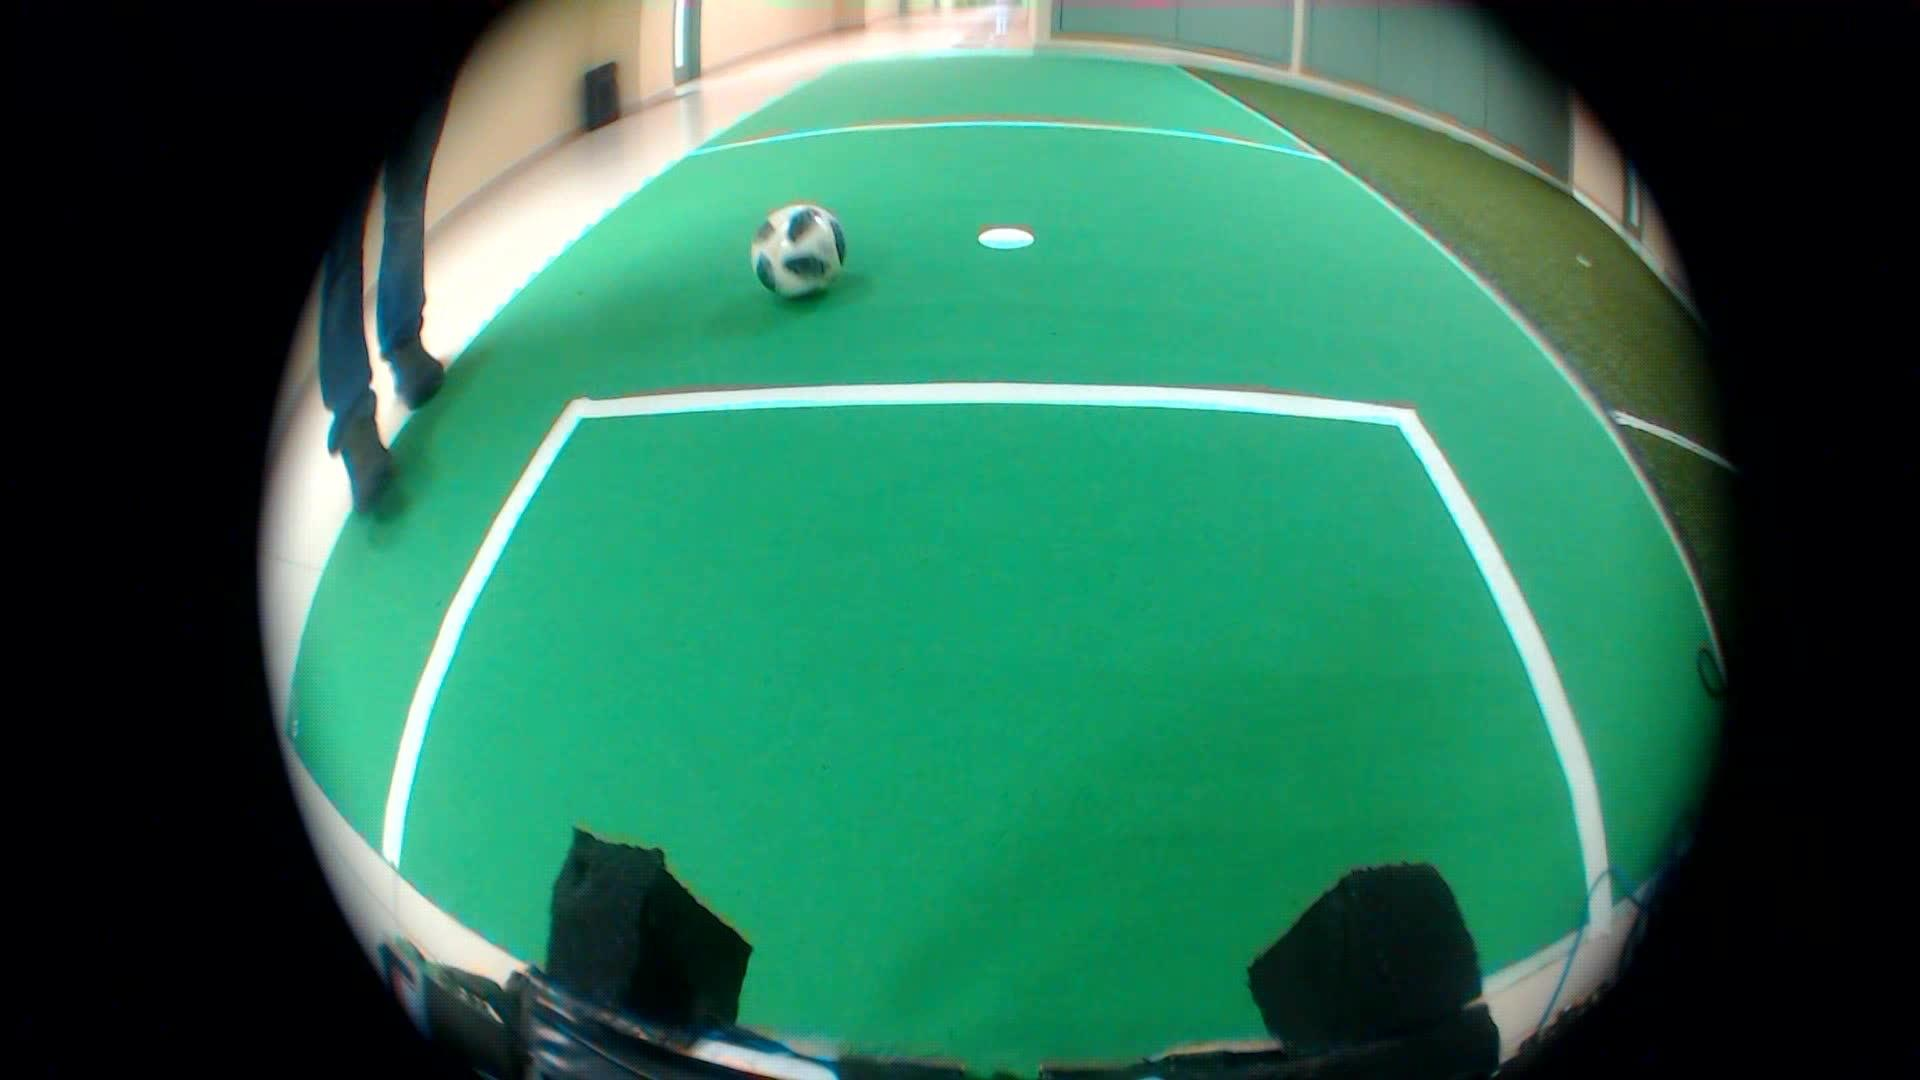ball: (738, 196, 851, 315)
